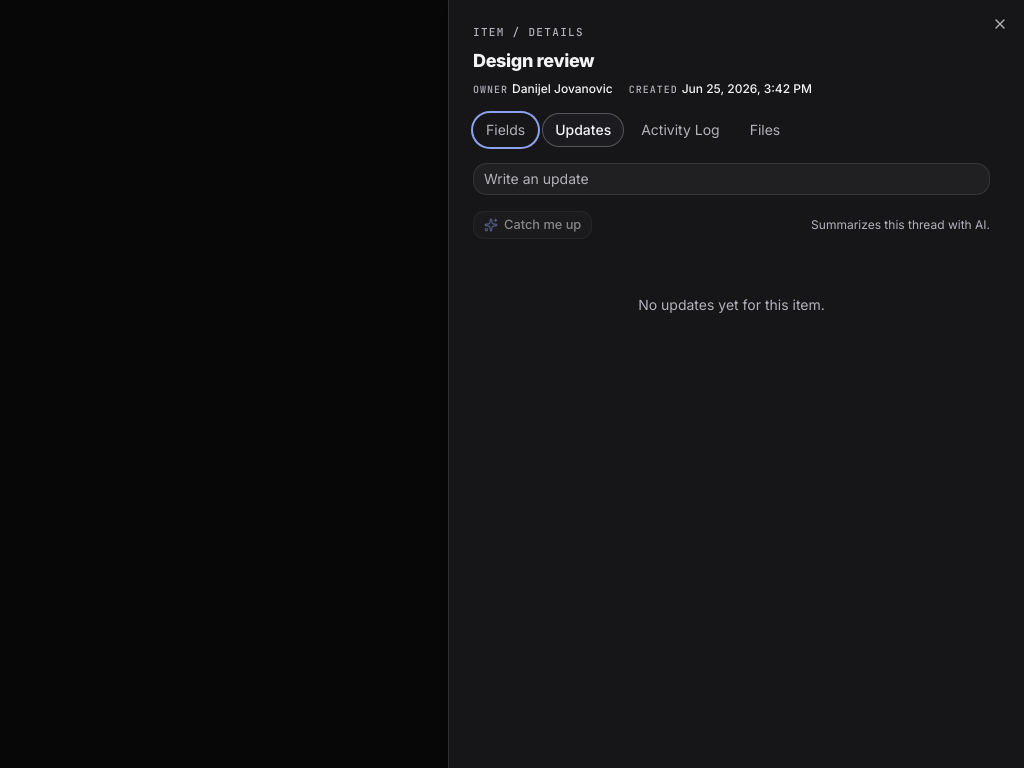
ItemPanel creation metadata › shows read-only creation metadata in the fields tab
Step 1. Click the tab "fields" → (506,130), box [473,112,538,146]
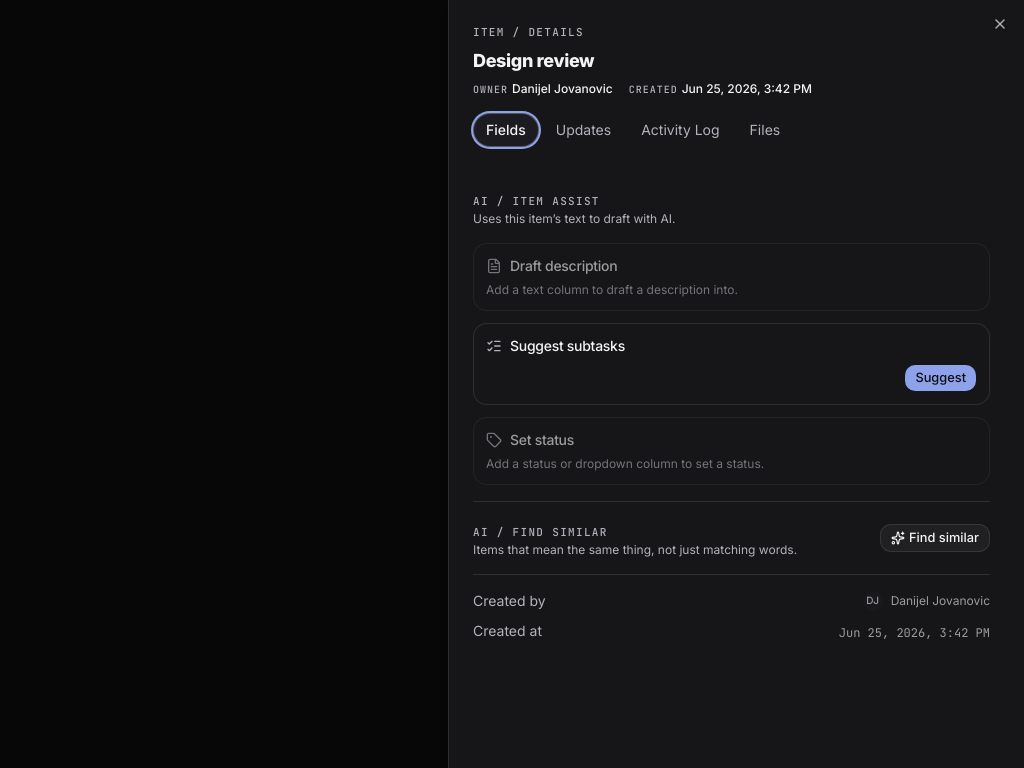
Expected: the text "Created by" is shown, [473,590,546,610]
Expected: the text "Danijel Jovanovic" next to "DJ" is shown, [891,592,990,608]
Expected: the text "Created at" is shown, [473,620,542,640]
